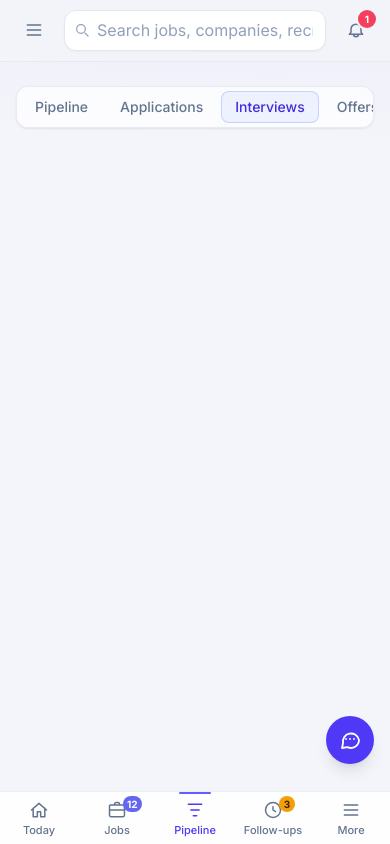
menu › phones: a bottom bar with the four main places, counts, and More for the full menu
Expected: the text named "12 new" reads "12", [127,798,138,810]
Expected: the text named "3 due" is shown, [279,796,295,812]
Click the button "More": (351, 818) [312,792,389,843]
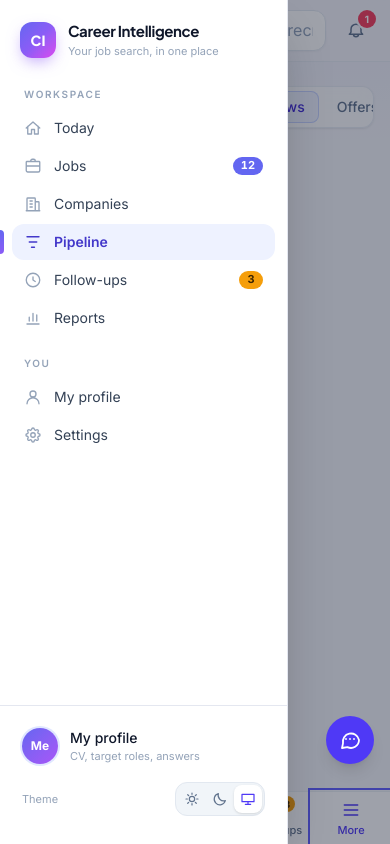
Expected: the button "More" is expanded, [312,792,389,843]
Expected: the number of navigation bars "Main" is 2
